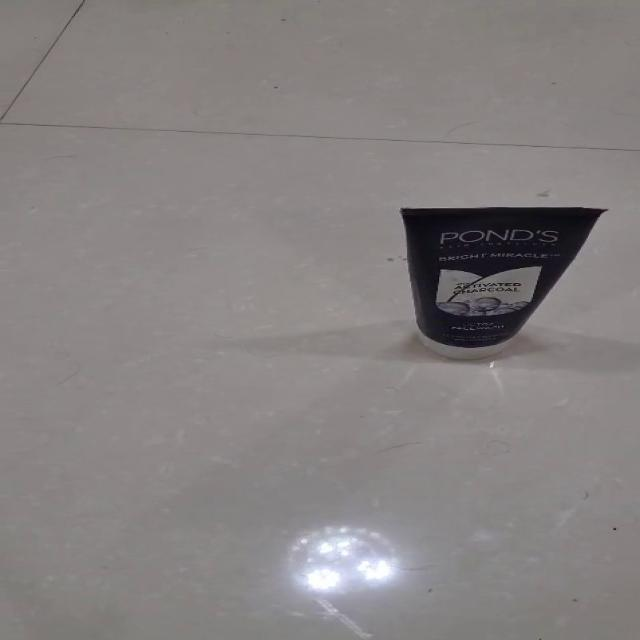plastic: (398, 205, 608, 360)
